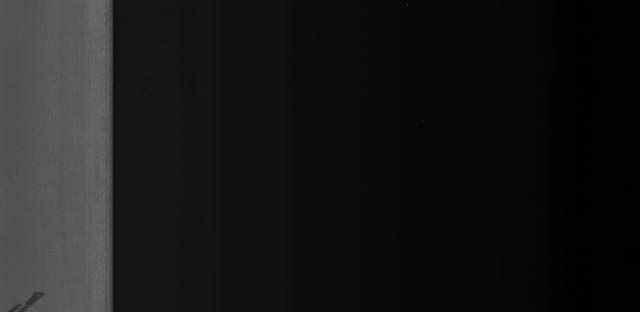oil_spot: (7, 286, 45, 312)
